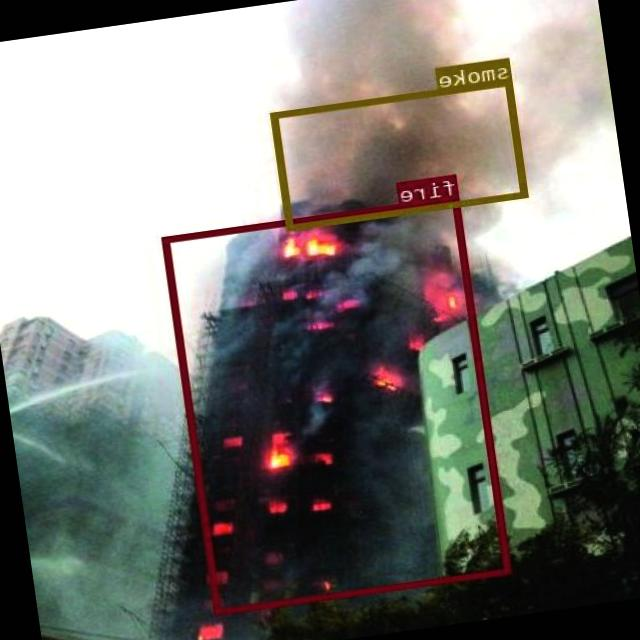fire: (163, 195, 513, 614)
smoke: (272, 78, 529, 229)
